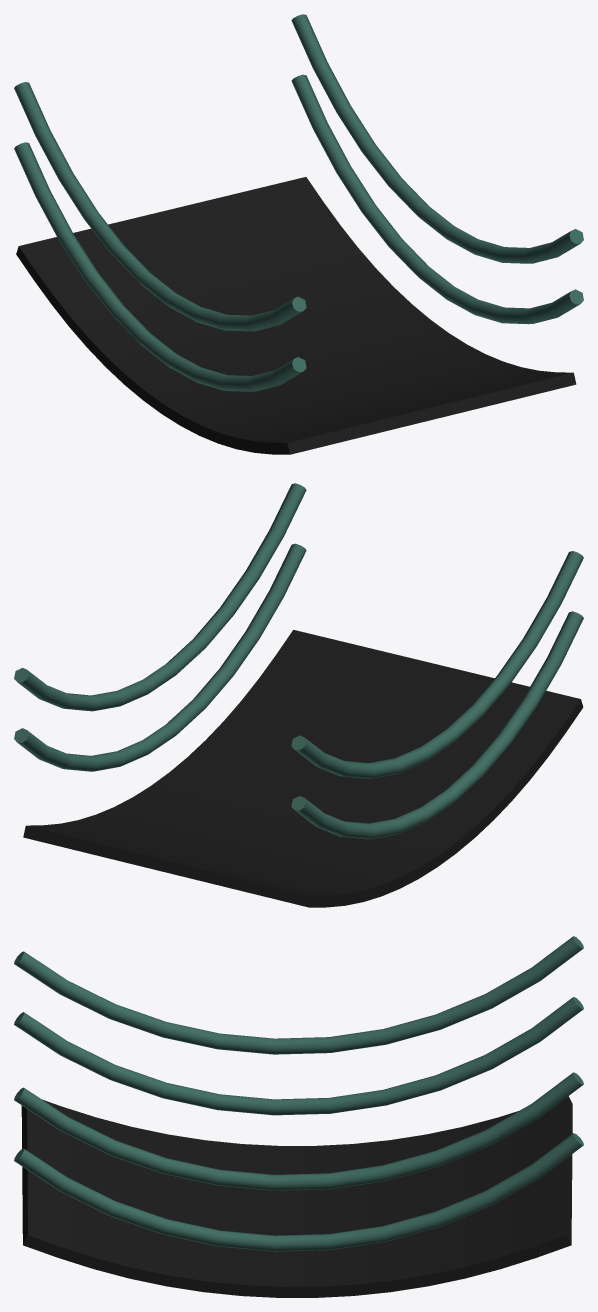
File: ART-MOD-A-Castle-RopeBridge-002.FBX
3 renders of one model, top to bottom at view 1: azimuth 30°, elevation 25°; view 2: azimuth 150°, elevation 25°; view 3: azimuth 270°, elevation 25°, orthographic.
Visible parts, largest first — view 1: Box005; view 2: Box005; view 3: Box005.
Boxes of the visible parts, x1,y1,x2,y2 form: Box005: (14, 14, 583, 454); Box005: (14, 483, 583, 907); Box005: (14, 936, 583, 1297).
Bounding box in the file's own units: 92.55 × 67.32 × 155.
